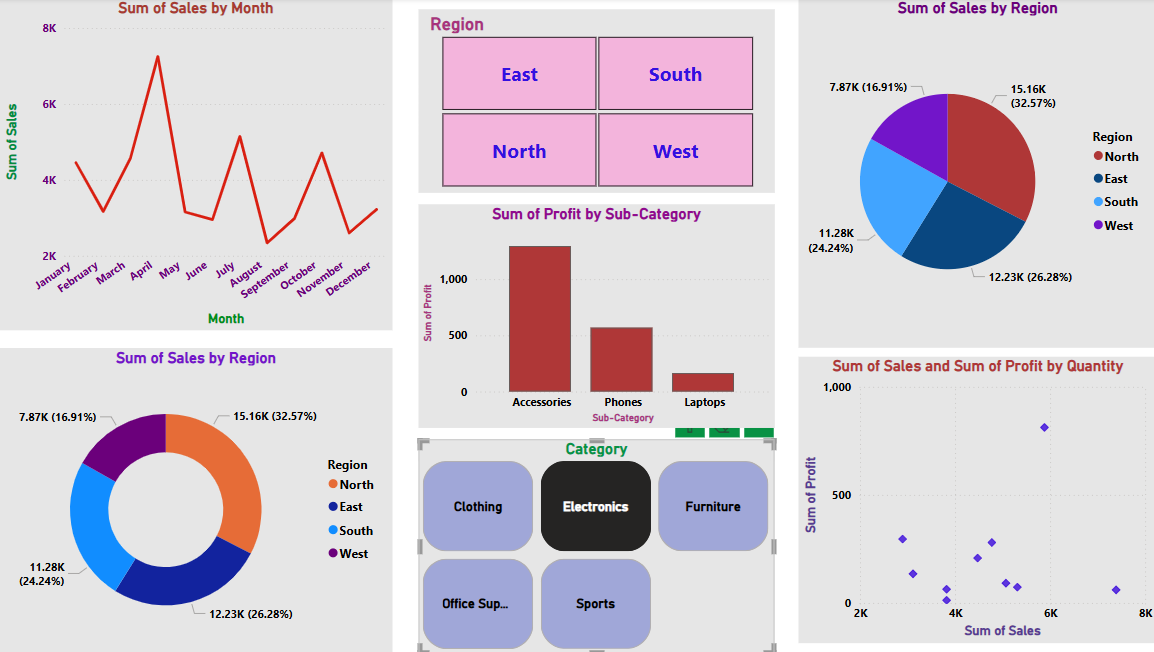

What the dashboard file says about the page in this screenshot:
{"tool":"powerbi","page":{"name":"Page 1","canvas":[1280,720],"ordinal":0},"visuals":[{"type":"lineChart","fields":{"Y":["Sum(Sheet1.Sales)"],"Category":["Sheet1.Order Date.Variation.Date Hierarchy.Month"]},"box":[9.6,0,430.9,365],"z":0},{"type":"donutChart","fields":{"Y":["Sum(Sheet1.Sales)"],"Category":["Sheet1.Region"]},"box":[9.6,384.2,430.9,336.2],"z":1000},{"type":"advancedSlicerVisual","fields":{"Values":["Sheet1.Category"]},"box":[469.3,484.4,391.1,236],"z":2000},{"type":"slicer","fields":{"Values":["Sheet1.Region"]},"box":[469.3,12.3,391.1,201.7],"z":3000},{"type":"clusteredColumnChart","fields":{"Category":["Sheet1.Sub-Category"],"Y":["Sum(Sheet1.Profit)"]},"box":[469.3,226.4,391.1,245.6],"z":4000},{"type":"pieChart","fields":{"Y":["Sum(Sheet1.Sales)"],"Category":["Sheet1.Region"]},"box":[886.5,0,393.8,384.2],"z":5000},{"type":"scatterChart","fields":{"X":["Sum(Sheet1.Sales)"],"Y":["Sum(Sheet1.Profit)"],"Category":["Sheet1.Quantity"]},"box":[886.5,393.8,393.8,314.2],"z":6000}]}

Visuals, with their boxes in screenshot pixels (x1, y1, x2, y2), scaled from the page's 1280x720 canvas onto the 1154x652 screenshot:
lineChart - Sum(Sheet1.Sales) x Sheet1.Order Date.Variation.Date Hierarchy.Month: [9, 0, 397, 331]
donutChart - Sum(Sheet1.Sales) x Sheet1.Region: [9, 348, 397, 651]
advancedSlicerVisual - Sheet1.Category: [423, 439, 776, 651]
slicer - Sheet1.Region: [423, 11, 776, 194]
clusteredColumnChart - Sheet1.Sub-Category x Sum(Sheet1.Profit): [423, 205, 776, 427]
pieChart - Sum(Sheet1.Sales) x Sheet1.Region: [799, 0, 1153, 348]
scatterChart - Sum(Sheet1.Sales) x Sum(Sheet1.Profit): [799, 357, 1153, 641]
